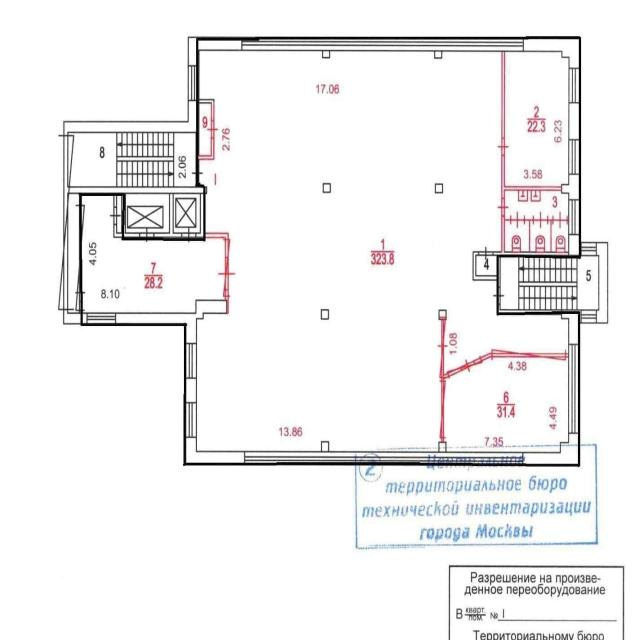Bathrooms: (505, 190, 569, 252)
Corridors: (82, 196, 224, 312), (68, 194, 78, 307), (199, 103, 211, 155), (477, 256, 496, 275), (117, 196, 121, 233)
Doors: (218, 257, 237, 290), (191, 160, 204, 183), (74, 282, 86, 306), (478, 245, 494, 261), (182, 227, 196, 245), (139, 228, 154, 244), (460, 358, 475, 374), (496, 198, 509, 216), (435, 338, 448, 356), (492, 287, 505, 304), (207, 120, 219, 138), (109, 207, 121, 225), (498, 137, 509, 156)
LBwalls: (116, 299, 227, 343), (63, 101, 199, 133), (523, 433, 581, 467), (523, 36, 581, 68), (183, 437, 245, 466), (188, 36, 242, 65), (596, 242, 608, 324), (562, 310, 582, 344), (561, 174, 581, 201), (569, 103, 581, 140), (63, 312, 86, 326), (569, 234, 581, 259), (184, 378, 197, 401), (438, 309, 447, 320), (322, 183, 331, 193), (438, 442, 447, 452), (435, 183, 443, 194), (321, 309, 329, 320), (321, 441, 329, 451), (322, 50, 330, 59), (434, 51, 442, 60)
Offices: (197, 52, 568, 450), (445, 359, 568, 450), (505, 51, 568, 186)
Stairs: (71, 133, 195, 185), (500, 258, 599, 309)
Walls: (67, 183, 207, 238), (473, 250, 569, 287), (57, 133, 75, 312), (501, 156, 561, 198), (439, 356, 462, 442), (474, 348, 568, 365), (75, 193, 86, 313), (497, 304, 562, 316), (205, 232, 231, 257), (196, 133, 215, 160), (501, 51, 505, 138), (200, 99, 215, 121), (501, 216, 505, 251), (113, 225, 122, 238), (441, 320, 447, 337), (222, 290, 231, 300)
Windows: (241, 36, 524, 51), (245, 451, 523, 466), (568, 345, 580, 434), (568, 199, 582, 234), (184, 343, 197, 378), (184, 402, 197, 437), (568, 68, 581, 103), (568, 139, 581, 174), (86, 312, 116, 326), (188, 65, 199, 101), (581, 242, 596, 257), (581, 309, 596, 323)
